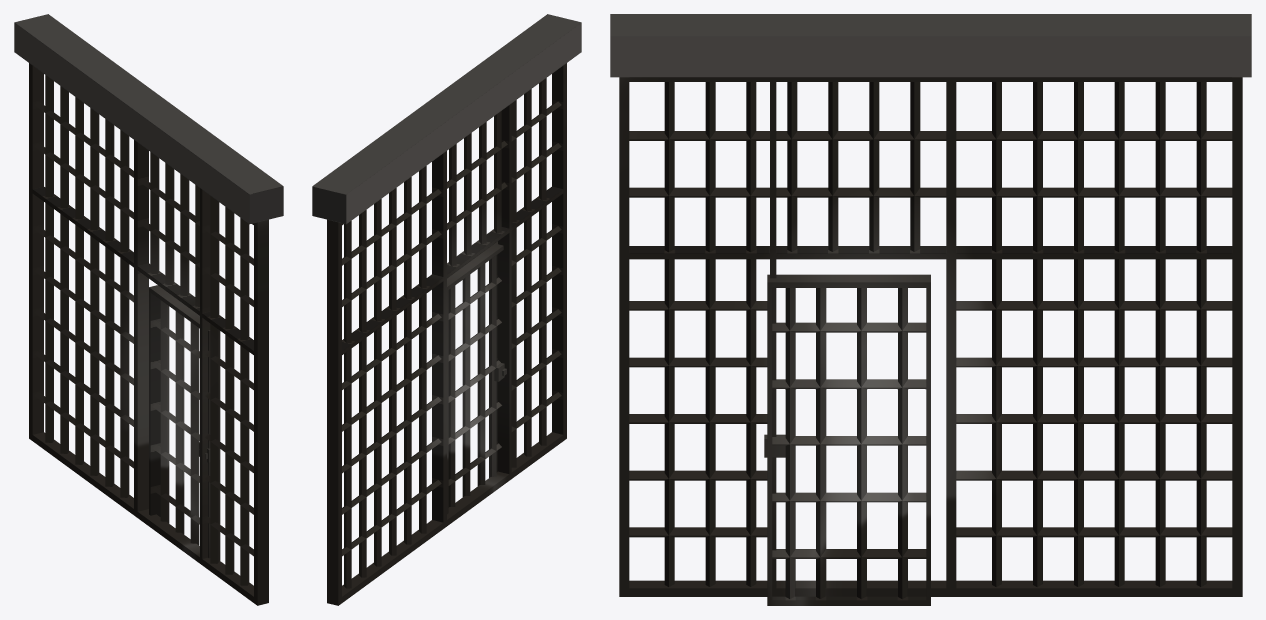
The model's file is police_station_wall_cage.FBX.
The picture shows the model from 3 angles, left to right: view 1: azimuth 30°, elevation 25°; view 2: azimuth 150°, elevation 25°; view 3: azimuth 270°, elevation 25°; orthographic projection. The views are drawn at different scales.
Parts seen in each view (by area): view 1: police_station_cage_wall_01l001, police_station_wall_cage_door_002; view 2: police_station_cage_wall_01l001, police_station_wall_cage_door_002; view 3: police_station_cage_wall_01l001, police_station_wall_cage_door_002.
Part boxes in pixels (x1,y1,x2,y2): police_station_cage_wall_01l001: [14, 14, 283, 605]; police_station_wall_cage_door_002: [149, 285, 220, 560]; police_station_cage_wall_01l001: [312, 14, 581, 605]; police_station_wall_cage_door_002: [447, 241, 506, 514]; police_station_cage_wall_01l001: [610, 14, 1251, 596]; police_station_wall_cage_door_002: [764, 274, 930, 605].
Size of the model in its own units: 73.81 by 874 by 887.
Materials: 1 (1 with a texture image).
